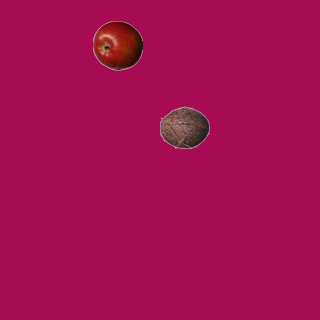Apple Braeburn: (92, 20, 142, 70)
Cocos: (159, 102, 209, 152)
